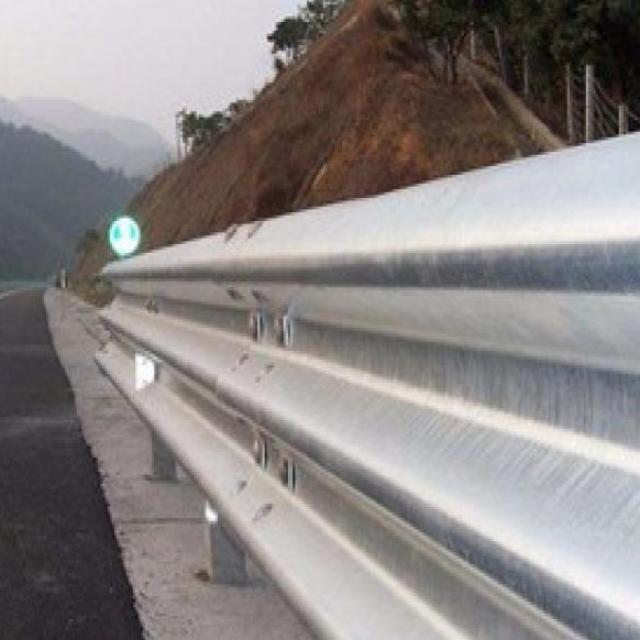Guard rail: (100, 133, 640, 640)
